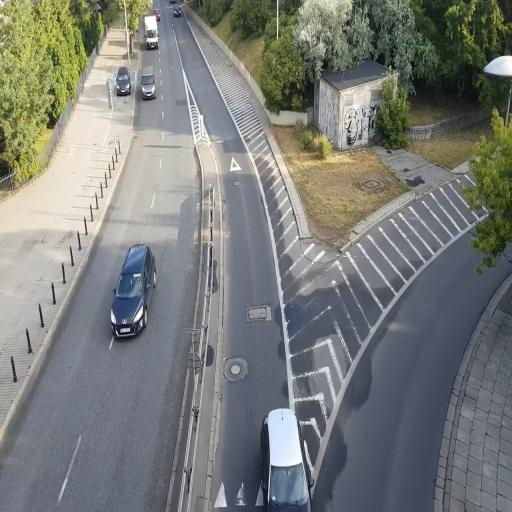vehicle: (262, 408, 312, 510), (110, 243, 156, 339), (140, 14, 160, 50), (114, 67, 132, 96), (141, 68, 156, 100)
